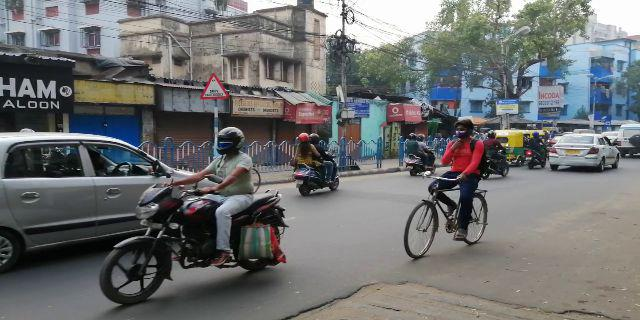Car: (2, 130, 215, 256), (551, 131, 621, 173)
Cycle: (403, 114, 500, 259)
Motorbike: (99, 123, 288, 307), (291, 133, 345, 194)
